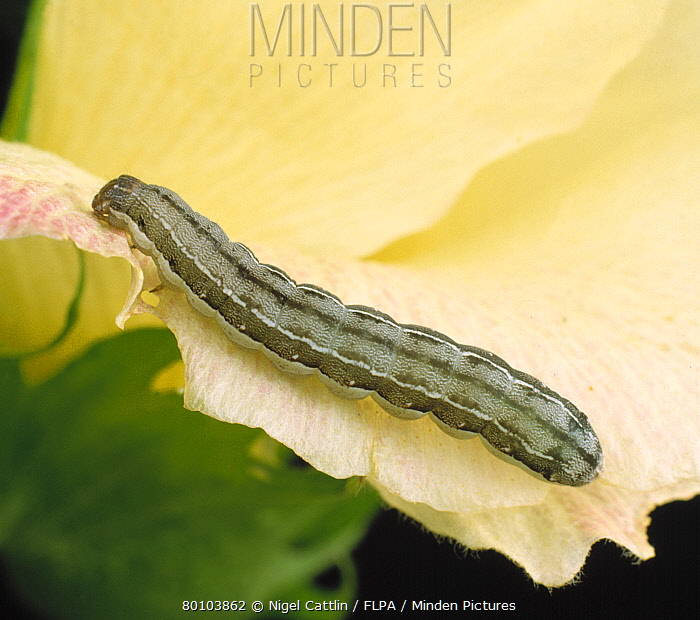Armyworm: (84, 166, 636, 511)
